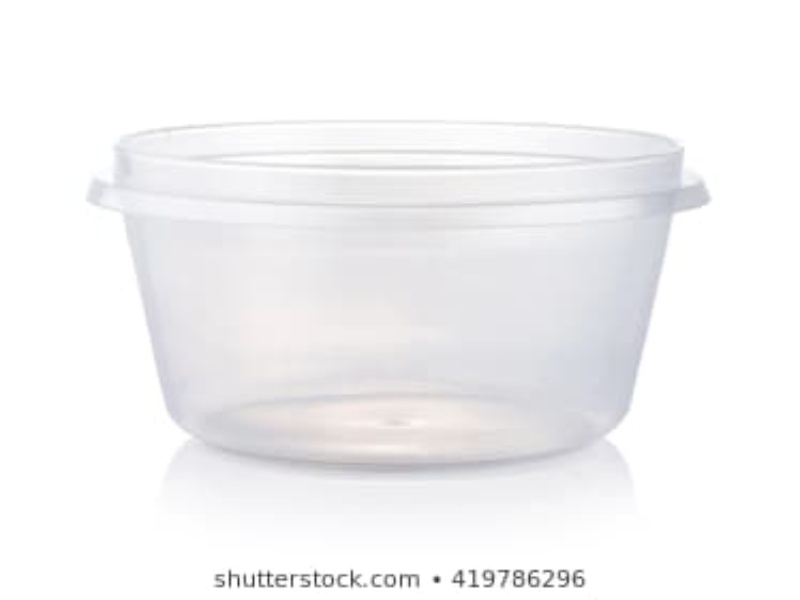plastic-container: (84, 121, 709, 460)
